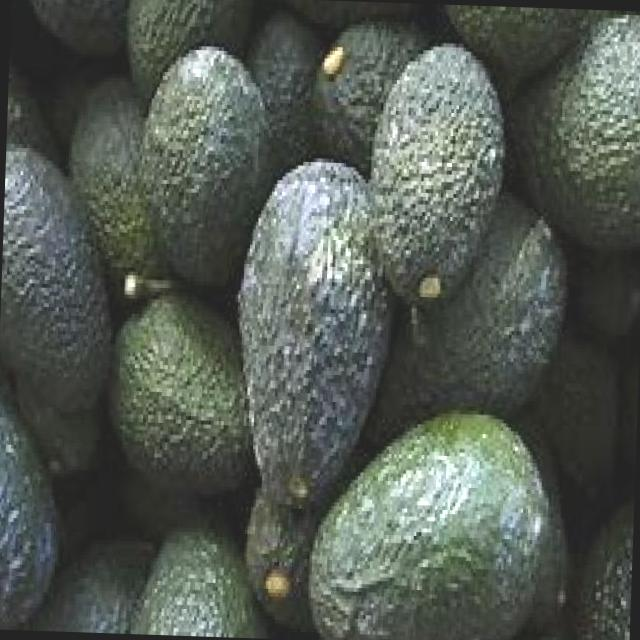avocado: (309, 409, 569, 640), (230, 157, 390, 510), (366, 48, 506, 310), (132, 36, 272, 287)
